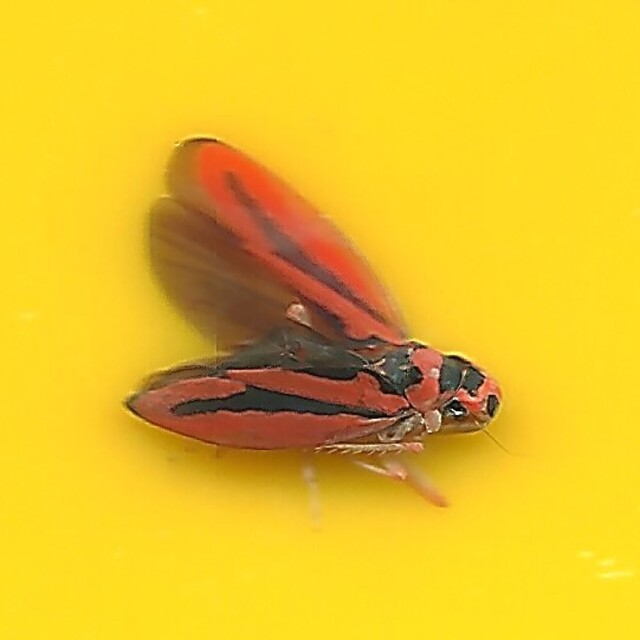Hemiptera: (118, 125, 522, 515)
